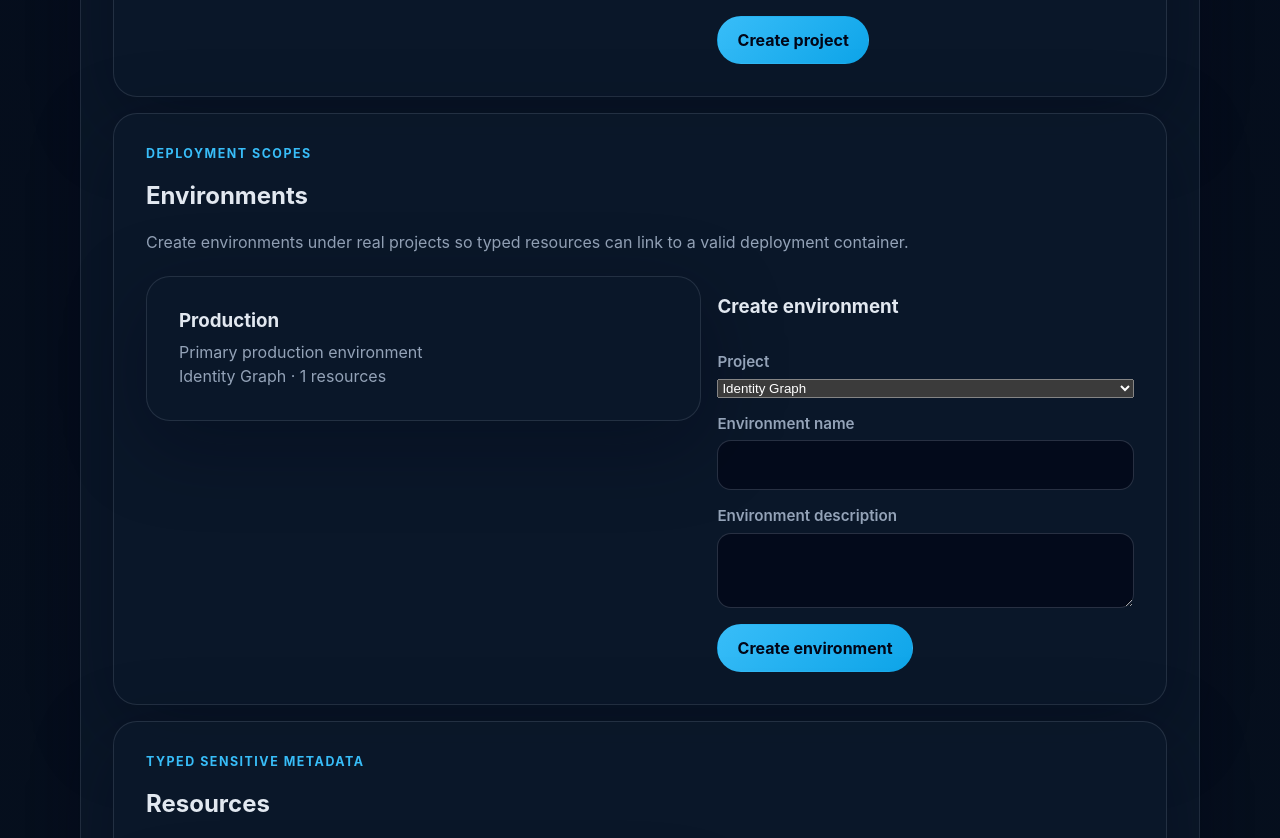
Test: catalog workspace › surfaces project-not-found failures in-place
(page scrolled)
Check: the heading "Production" is shown, box [179,309,279,332]
Select "Identity Graph" in the dropdown labelled "Project". click: x=926, y=388
box: [717,378,1134,398]
(page scrolled)
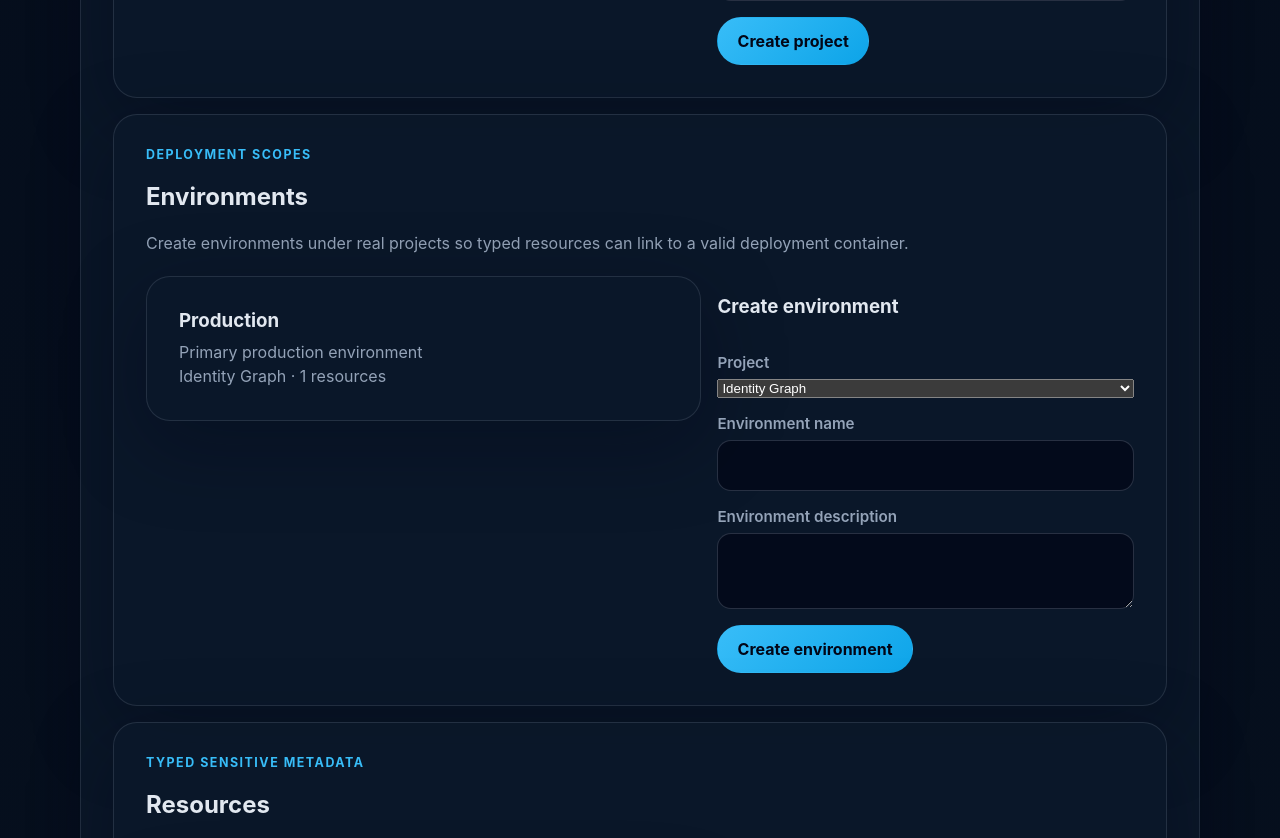
Type "Disaster Recovery" into the field labelled "Environment name". click: x=926, y=465
box: [717,440,1134,491]
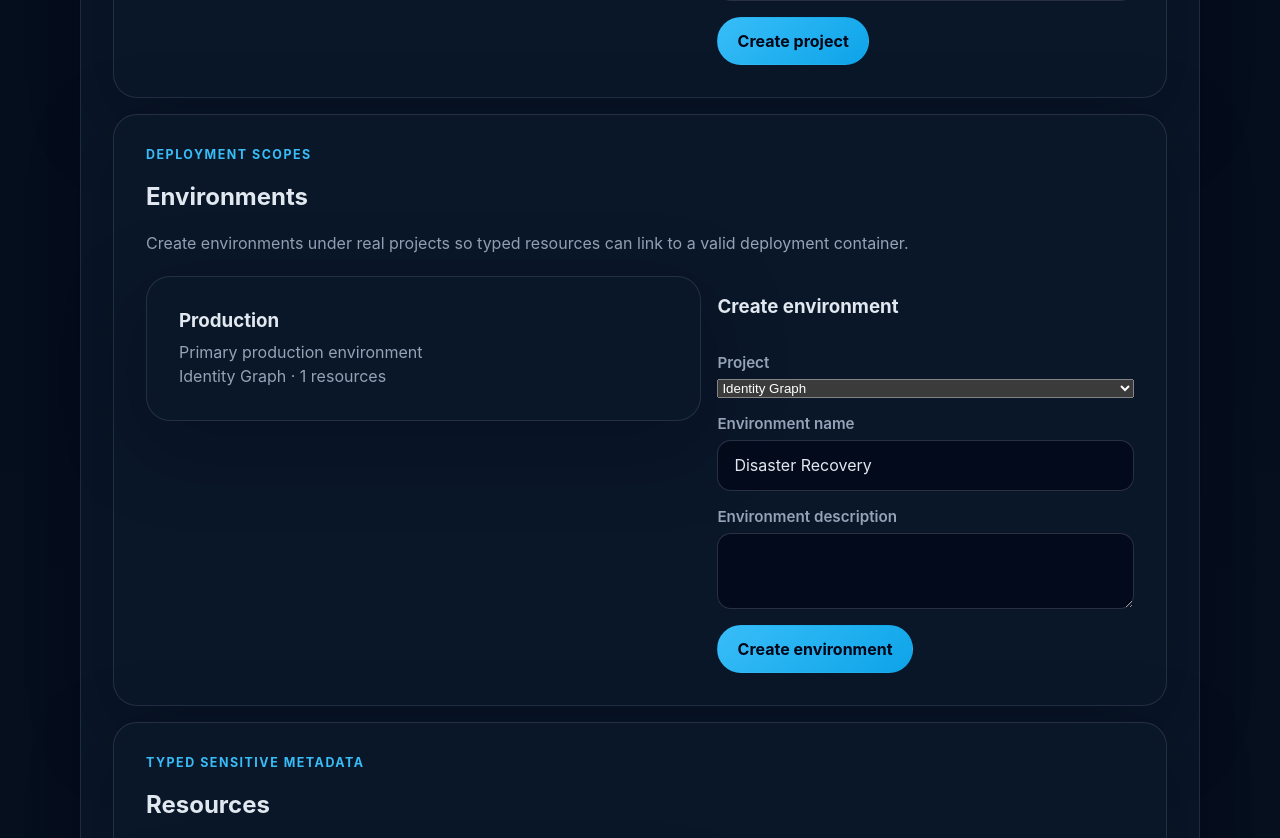
Click the button "Create environment". click: x=815, y=649
box: [717,625,913,673]
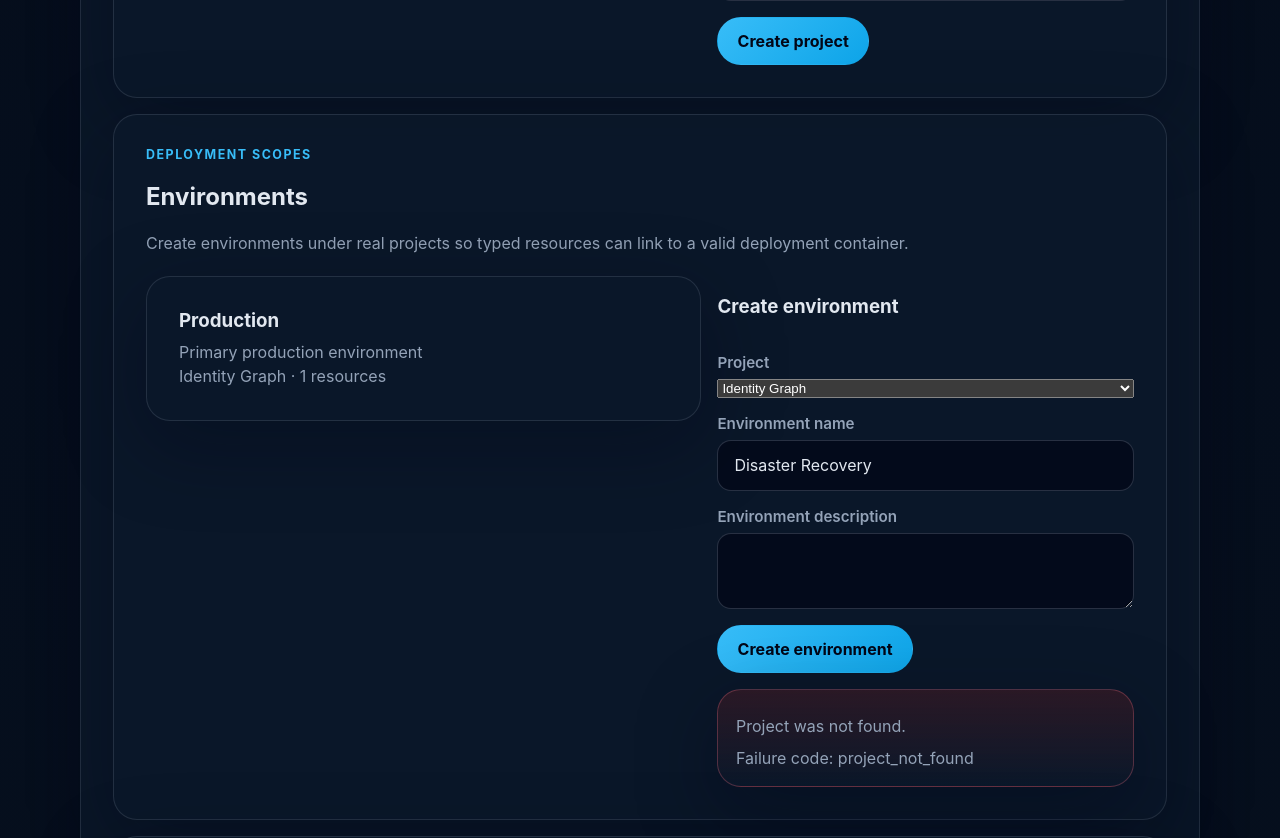
Check: the text "Project was not found." is shown, box [736,716,906,736]
Check: the text "Failure code: project_not_found" is shown, box [736,748,974,768]
